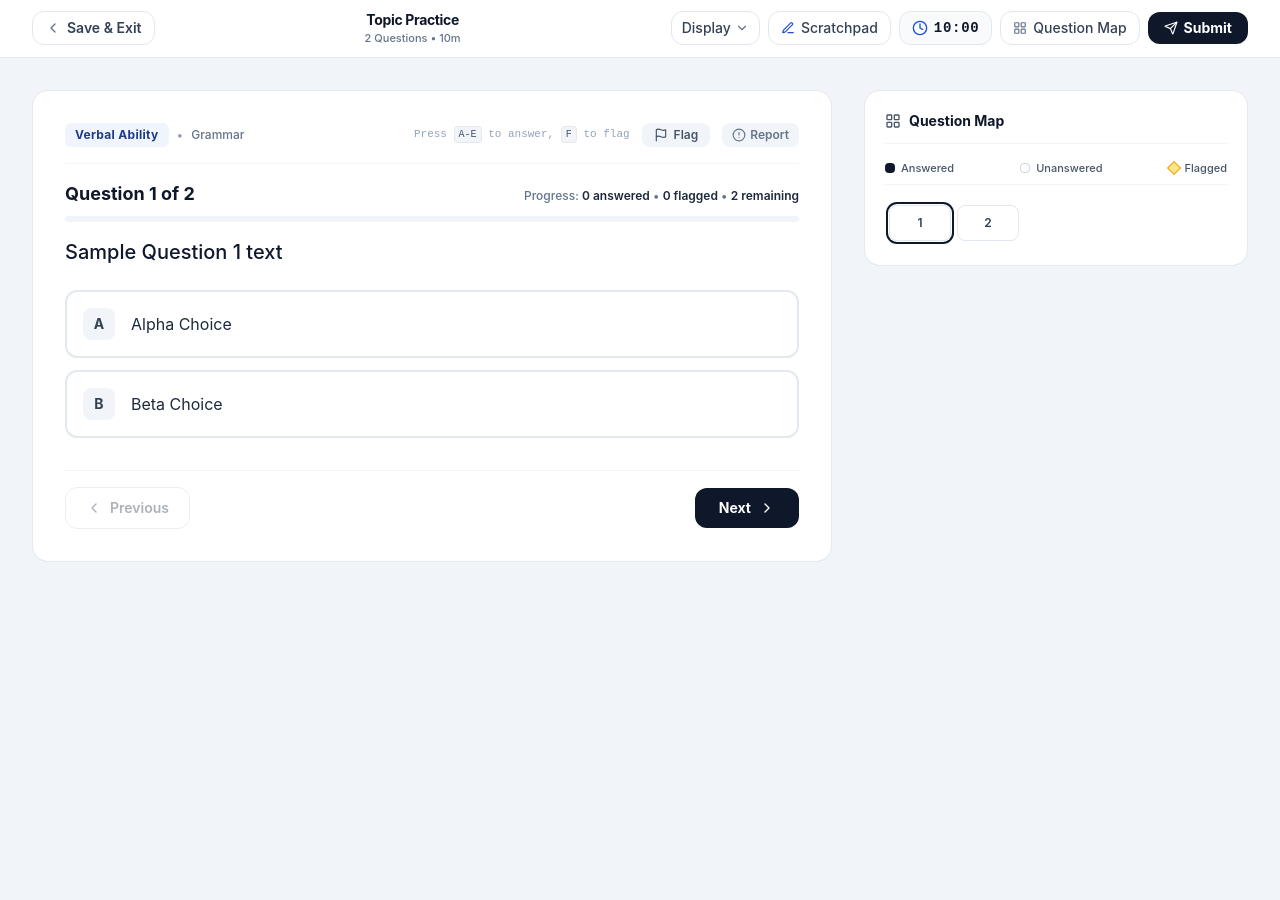
Test: ExamRunner Component › renders instant feedback and concept explanation in practice mode
Select correct choice A
Step 1. Click the text "Alpha Choice" → (181, 324), box [131, 314, 232, 334]
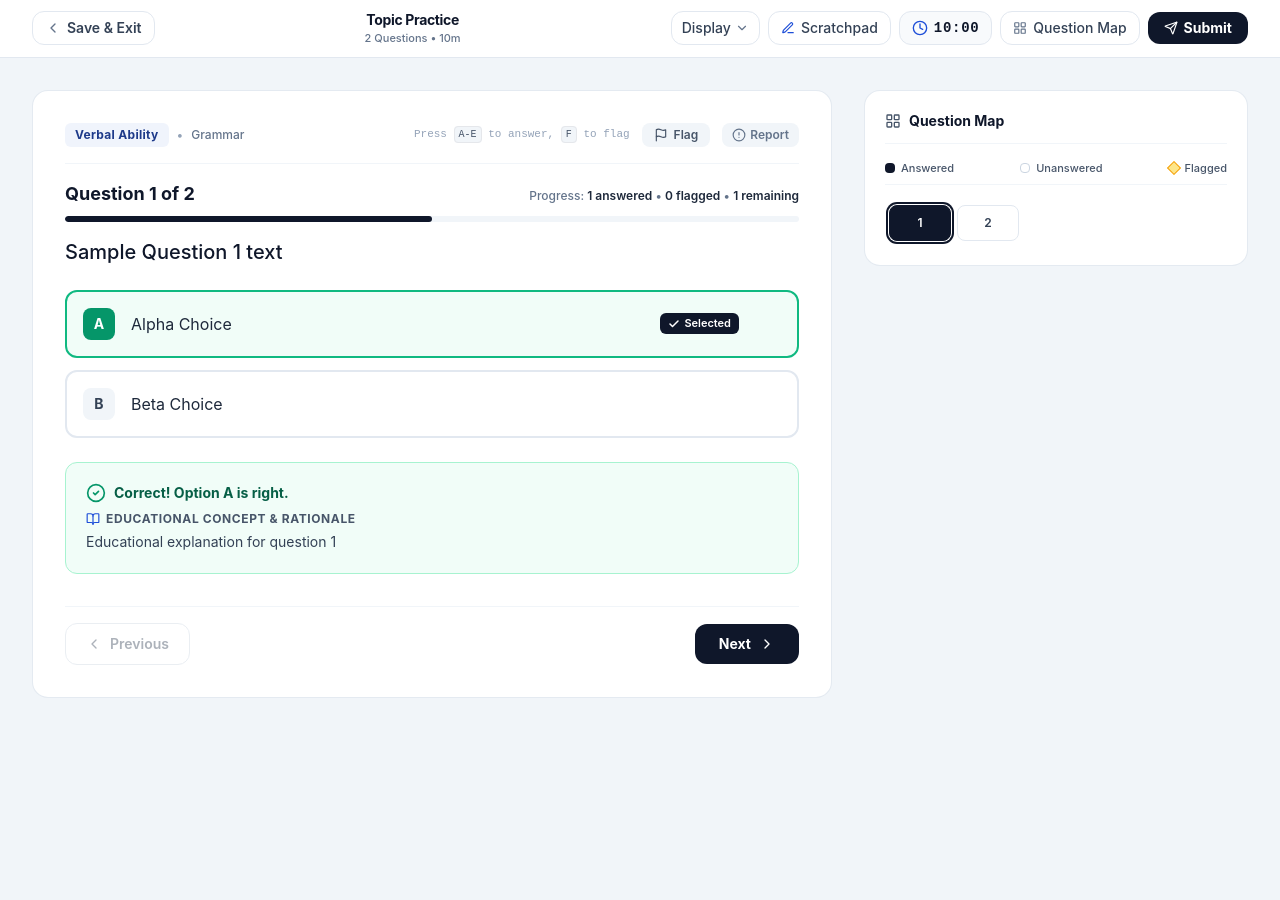
Expected: the text "Correct! Option A is right." is shown, [114, 482, 289, 502]
Expected: the text "Educational explanation for question 1" is shown, [86, 532, 336, 550]
